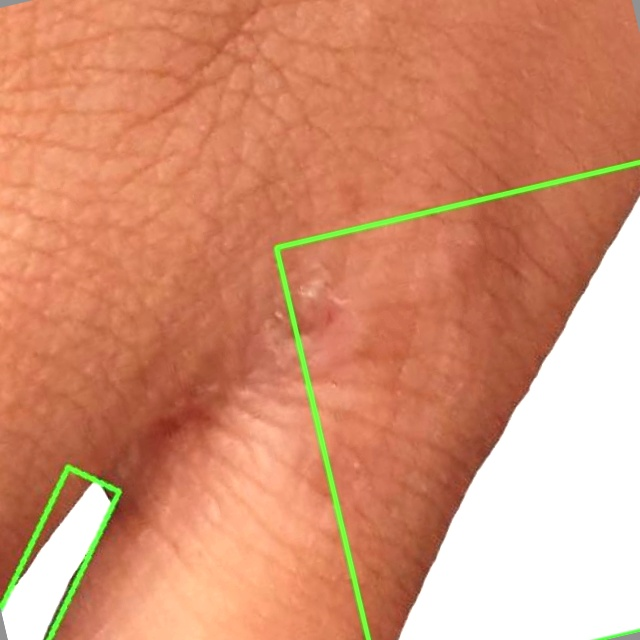Scabies: (276, 162, 639, 639), (0, 467, 119, 639)
